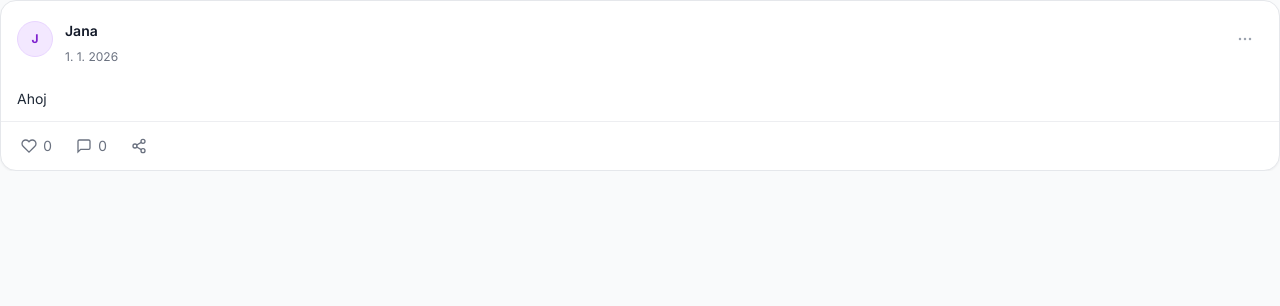
closes on a click outside and on Escape
This screenshot has width=1280, height=306.
Click the button with test id "feed-post-menu-trigger" at (1245, 39), box [1227,21,1263,57]
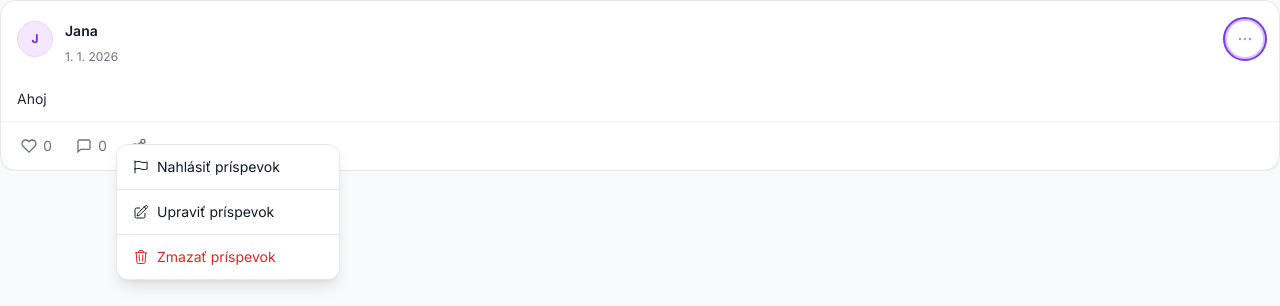
Click the element with test id "feed-post-menu-layer" at (228, 212), box [116,144,340,280]
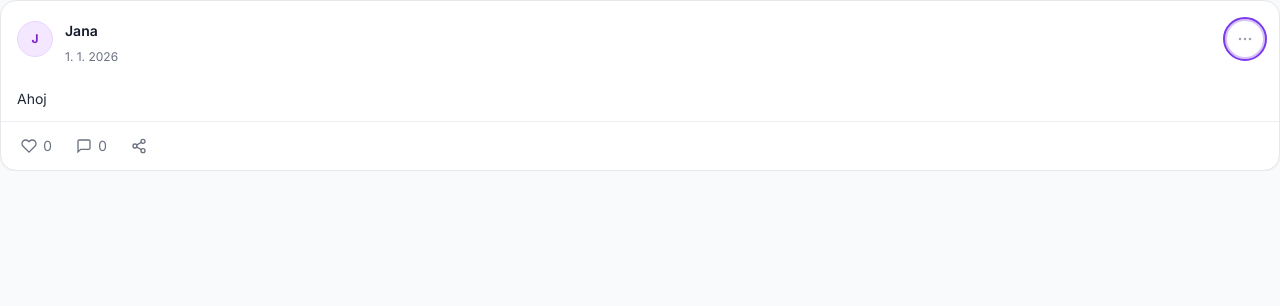
Result: the menu with test id "feed-post-menu" is gone
Click the button with test id "feed-post-menu-trigger" at (1245, 39), box [1227,21,1263,57]
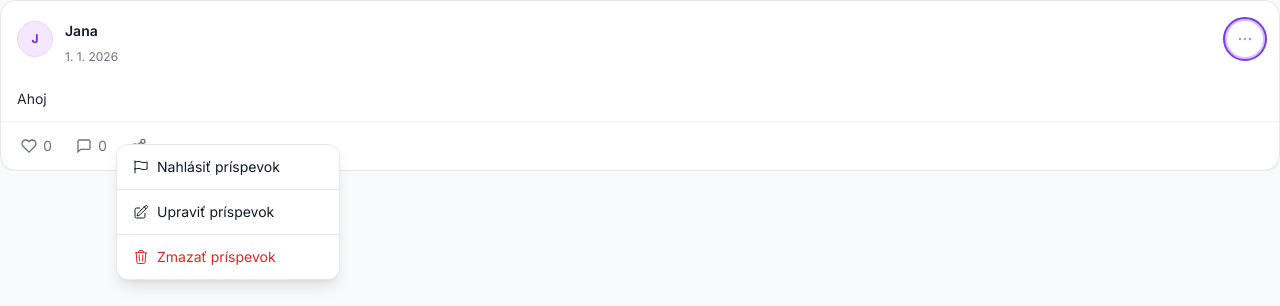
Result: the menu with test id "feed-post-menu" is shown at [116,144,340,280]
Press Escape
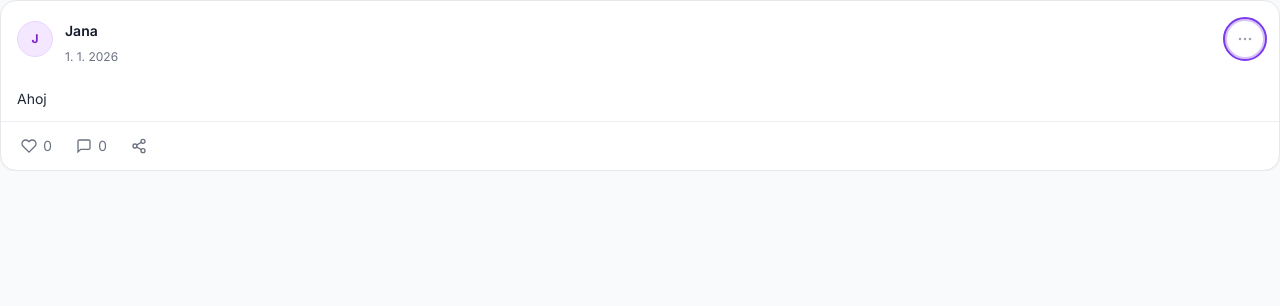
Result: the menu with test id "feed-post-menu" is gone
